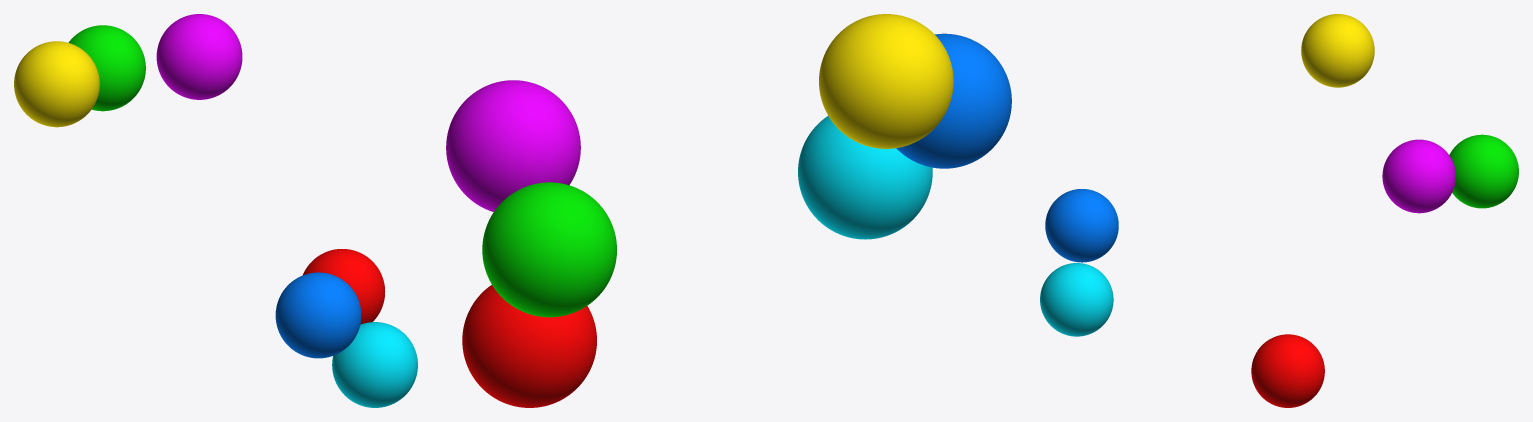
File: balls.fbx
3 views of the same model, side by side, from view 1: azimuth 30°, elevation 25°; view 2: azimuth 150°, elevation 25°; view 3: azimuth 270°, elevation 25° (orthographic). The views are drawn at different scales.
Parts seen in each view (by area): view 1: PurpleSphere, BlueSphere, RedSphere, YellowSphere, GreenSphere, CyanSphere; view 2: GreenSphere, RedSphere, PurpleSphere, CyanSphere, YellowSphere, BlueSphere; view 3: RedSphere, PurpleSphere, CyanSphere, YellowSphere, BlueSphere, GreenSphere.
Boxes of the visible parts, x1=… form: PurpleSphere: x1=156, y1=14, x2=242, y2=99; BlueSphere: x1=275, y1=272, x2=361, y2=358; RedSphere: x1=14, y1=41, x2=99, y2=127; YellowSphere: x1=332, y1=322, x2=417, y2=407; GreenSphere: x1=68, y1=25, x2=145, y2=111; CyanSphere: x1=303, y1=249, x2=385, y2=324; GreenSphere: x1=482, y1=182, x2=616, y2=317; RedSphere: x1=819, y1=14, x2=953, y2=148; PurpleSphere: x1=446, y1=80, x2=580, y2=211; CyanSphere: x1=462, y1=285, x2=596, y2=407; YellowSphere: x1=798, y1=116, x2=932, y2=239; BlueSphere: x1=896, y1=33, x2=1011, y2=168; RedSphere: x1=1301, y1=14, x2=1374, y2=87; PurpleSphere: x1=1382, y1=139, x2=1455, y2=213; CyanSphere: x1=1251, y1=334, x2=1324, y2=407; YellowSphere: x1=1040, y1=263, x2=1113, y2=336; BlueSphere: x1=1045, y1=189, x2=1118, y2=262; GreenSphere: x1=1449, y1=134, x2=1518, y2=208.
Size of the model in its own units: 709 by 670 by 1039.
